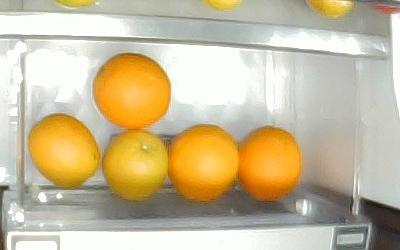orange: (93, 53, 171, 130), (27, 113, 102, 189), (168, 123, 238, 202), (239, 126, 302, 202), (102, 131, 168, 202)
